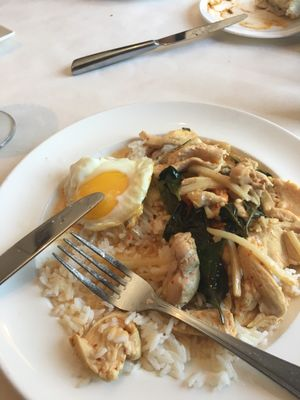burger: (52, 231, 300, 396)
sandwich: (71, 12, 248, 77), (0, 193, 105, 286)
